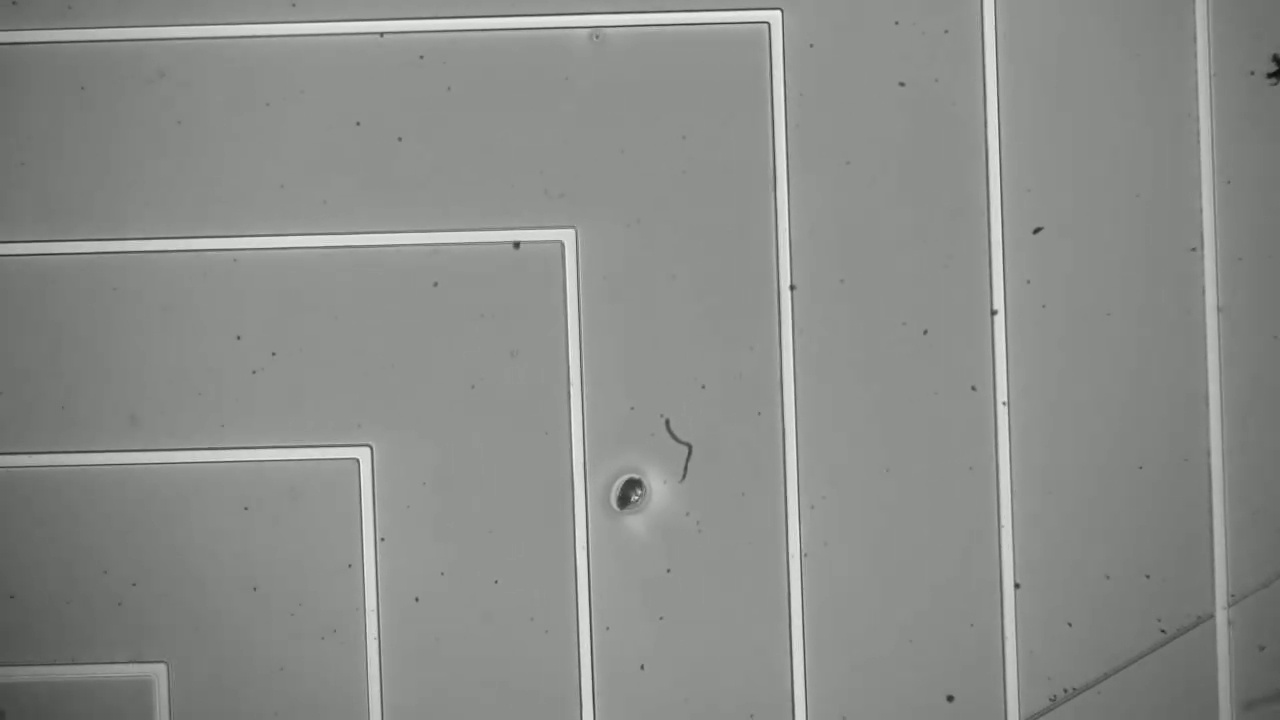scratch: (1003, 564, 1272, 719)
